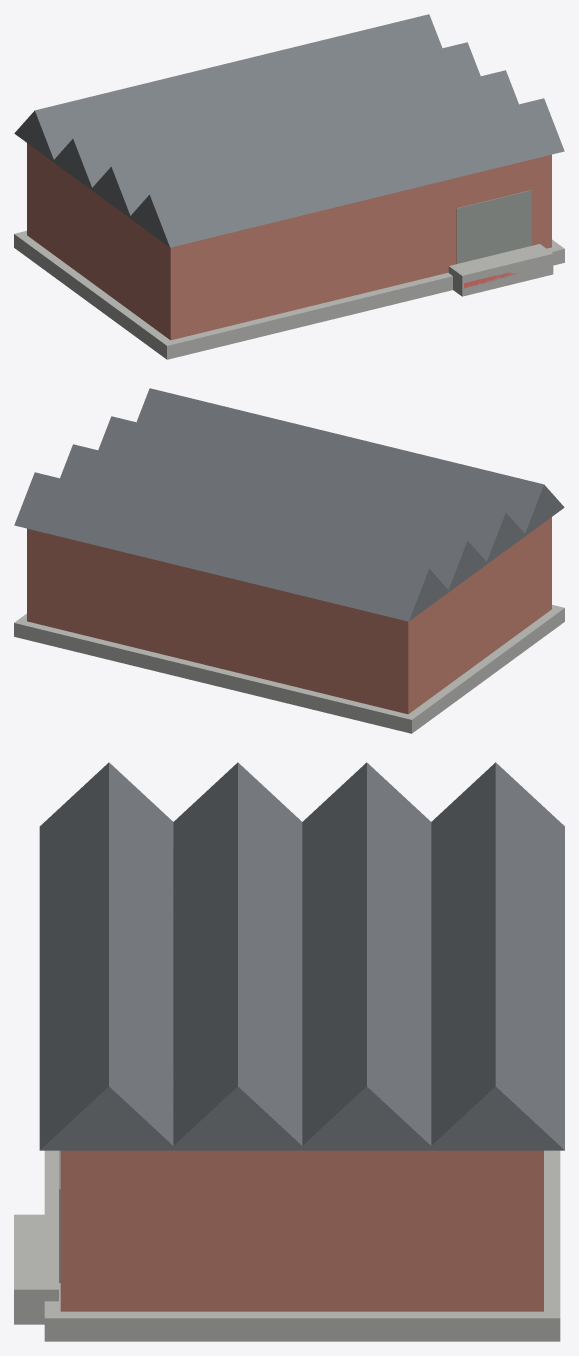
File: factory_sawtooth_roof.glb
3 renders of one model, top to bottom at view 1: azimuth 30°, elevation 25°; view 2: azimuth 150°, elevation 25°; view 3: azimuth 270°, elevation 25°, orthographic. The views are drawn at different scales.
Visible parts, largest first — view 1: factory_sawtooth_roof; view 2: factory_sawtooth_roof; view 3: factory_sawtooth_roof.
Part boxes in pixels (x1,y1,x2,y2): factory_sawtooth_roof: (14, 14, 564, 359); factory_sawtooth_roof: (14, 388, 564, 733); factory_sawtooth_roof: (14, 762, 564, 1341).
Bounding box in the file's own units: 24 × 8.7 × 17.1.
